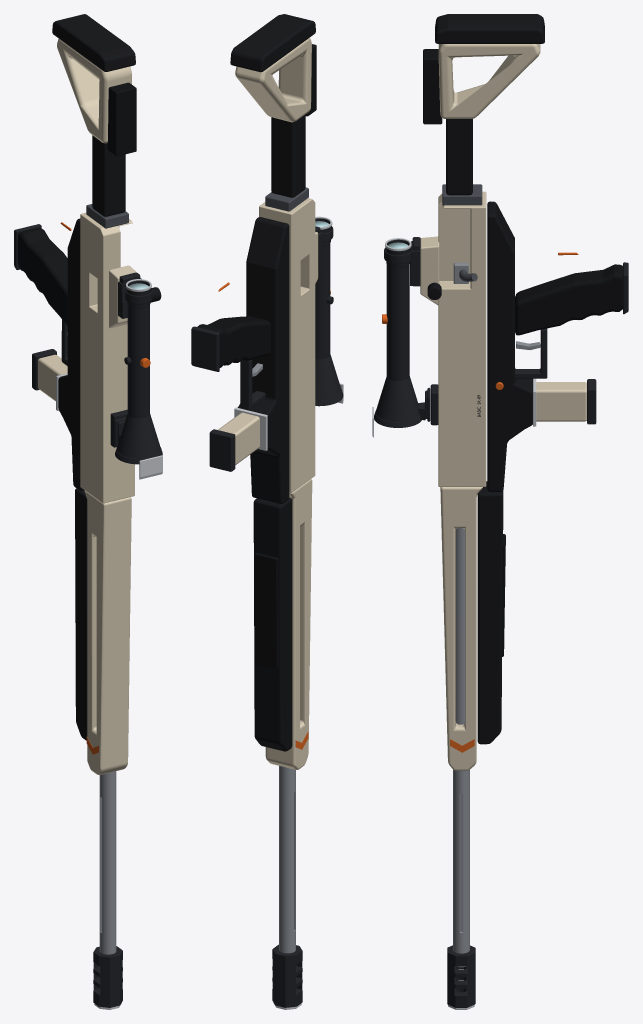
File: BASIC-09-v2.1.fbx
3 renders of one model, left to right at view 1: azimuth 30°, elevation 25°; view 2: azimuth 150°, elevation 25°; view 3: azimuth 270°, elevation 25°, orthographic. The views are drawn at different scales.
Visible parts, largest first — view 1: shroud, receiver, lower, barrel, stock, handguard, grip, butt_pad, scope_tube, stock_spine, cheek_rest, muzzle (+5 smaller); view 2: lower, receiver, handguard, shroud, stock, barrel, butt_pad, handguard_grip, stock_spine, grip, muzzle, scope_tube (+8 smaller); view 3: receiver, lower, shroud, handguard, barrel, grip, stock, butt_pad, scope_tube, stock_spine, magazine, muzzle (+5 smaller).
Boxes of the visible parts, bbox=[...] form: shroud: bbox=[84, 490, 131, 775]; receiver: bbox=[80, 212, 134, 503]; lower: bbox=[58, 218, 83, 490]; barrel: bbox=[99, 771, 116, 954]; stock: bbox=[57, 39, 131, 143]; handguard: bbox=[75, 488, 87, 740]; grip: bbox=[17, 228, 67, 325]; butt_pad: bbox=[52, 14, 135, 71]; scope_tube: bbox=[127, 305, 149, 418]; stock_spine: bbox=[92, 135, 125, 216]; cheek_rest: bbox=[107, 82, 136, 156]; muzzle: bbox=[93, 946, 122, 1007]; lower: bbox=[237, 217, 289, 503]; receiver: bbox=[259, 198, 315, 492]; handguard: bbox=[253, 497, 292, 751]; shroud: bbox=[265, 478, 312, 769]; stock: bbox=[235, 38, 311, 122]; barrel: bbox=[279, 766, 295, 953]; butt_pad: bbox=[230, 14, 315, 72]; handguard_grip: bbox=[254, 552, 278, 669]; stock_spine: bbox=[271, 114, 305, 197]; grip: bbox=[197, 316, 271, 367]; muzzle: bbox=[272, 944, 302, 1007]; scope_tube: bbox=[315, 243, 330, 359]; receiver: bbox=[438, 191, 486, 486]; lower: bbox=[487, 201, 532, 491]; shroud: bbox=[440, 487, 482, 770]; handguard: bbox=[477, 481, 503, 744]; barrel: bbox=[453, 528, 469, 967]; grip: bbox=[515, 264, 622, 335]; stock: bbox=[438, 44, 540, 118]; butt_pad: bbox=[435, 14, 544, 43]; scope_tube: bbox=[386, 264, 409, 381]; stock_spine: bbox=[446, 119, 472, 195]; magazine: bbox=[536, 382, 586, 421]; muzzle: bbox=[447, 945, 475, 1007].
Bounding box in the file's own units: 0.0716 × 1.13 × 0.2682.
